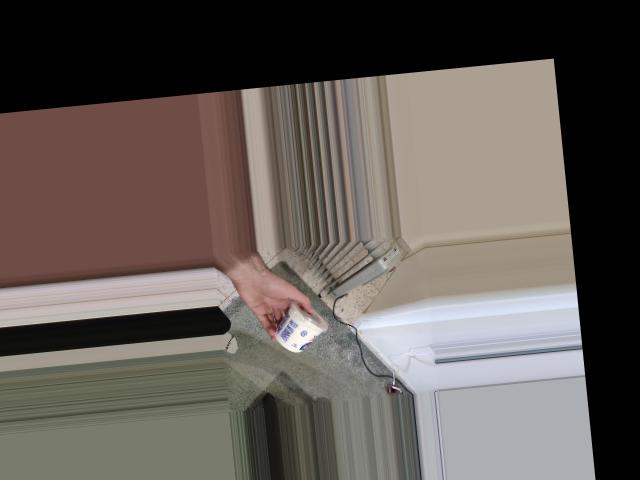cotage: (268, 296, 331, 355)
